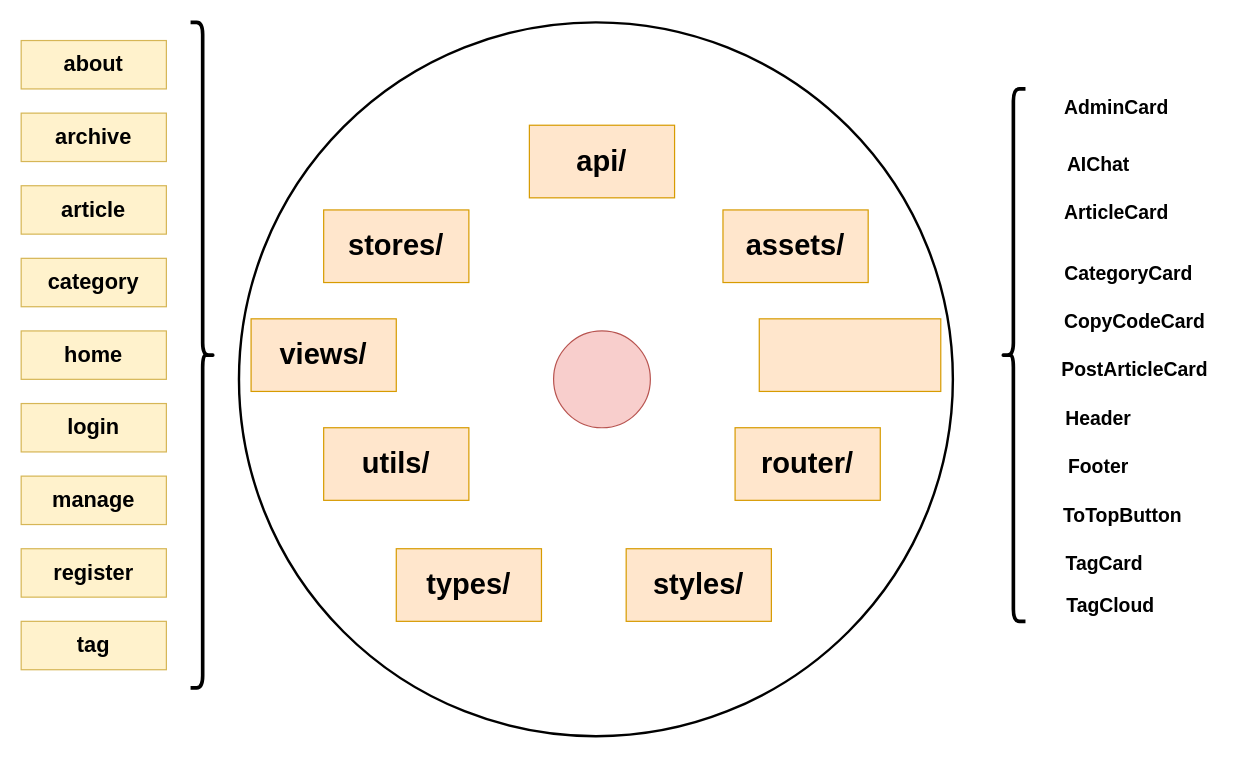
Image size: 1234x759. Some labels were removed from this diagram. Each missing label, with the centre of its shape:
"components/" belongs at point 849,354.
"src/" belongs at point 601,379.
